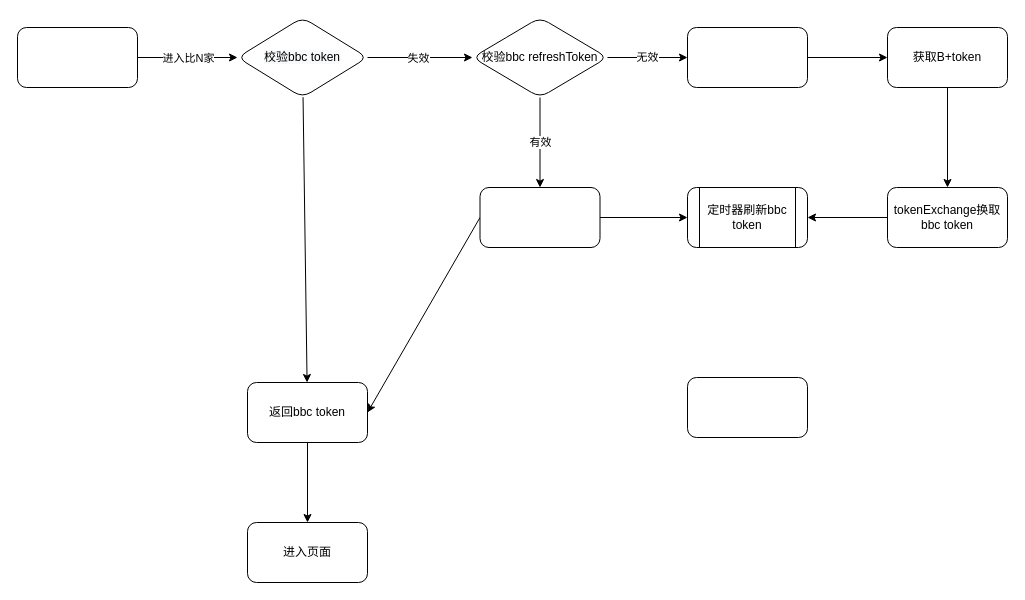
Some shapes in this 1025 by 600 pixel diagram are drawn without their labels. Here are the shapes that lost their labels. From the top down, the box of each, then its label:
(16, 26, 138, 88): 用户
(686, 26, 808, 88): install授权组件
(479, 186, 600, 248): 通过refreshToken获取token
